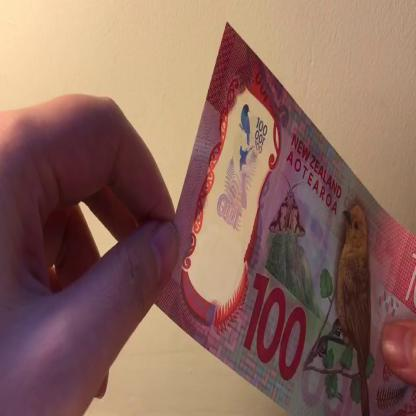100B: (214, 101, 270, 232)
